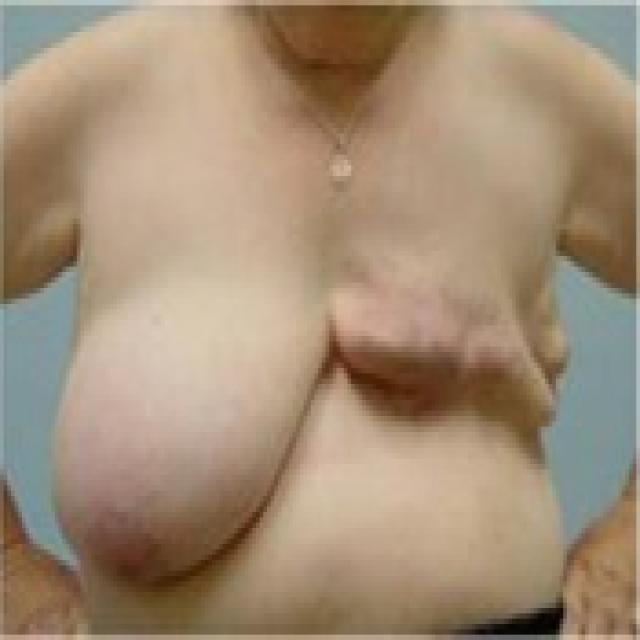Seno herido: (333, 226, 575, 462)
Seno ileso: (43, 226, 330, 624)
